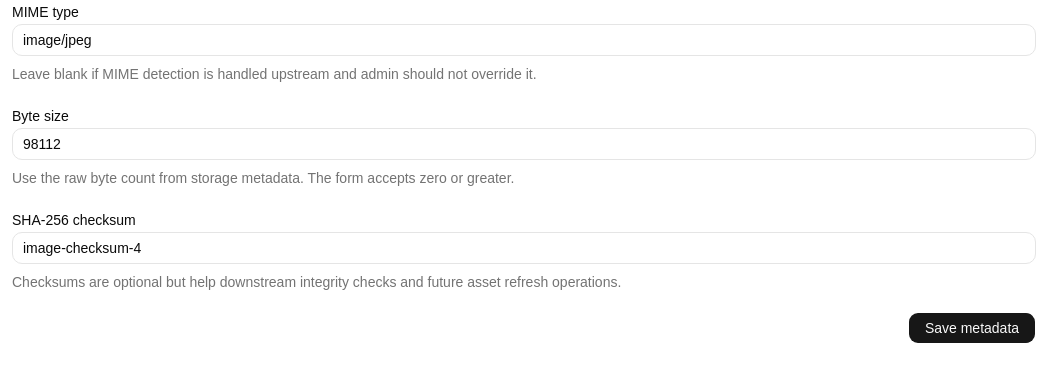
Test: AssetMetadataForm › maps server validation problems back onto the form
The image size is (1048, 388).
Step 1. Type "broken" into the field labelled "MIME type" → (524, 40), box [12,24,1036,56]
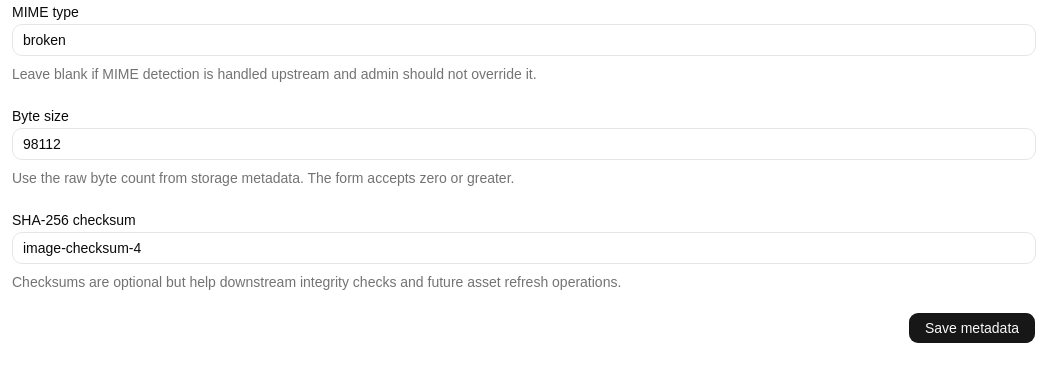
Step 2. Click the button "Save metadata" → (972, 328), box [908,312,1036,344]
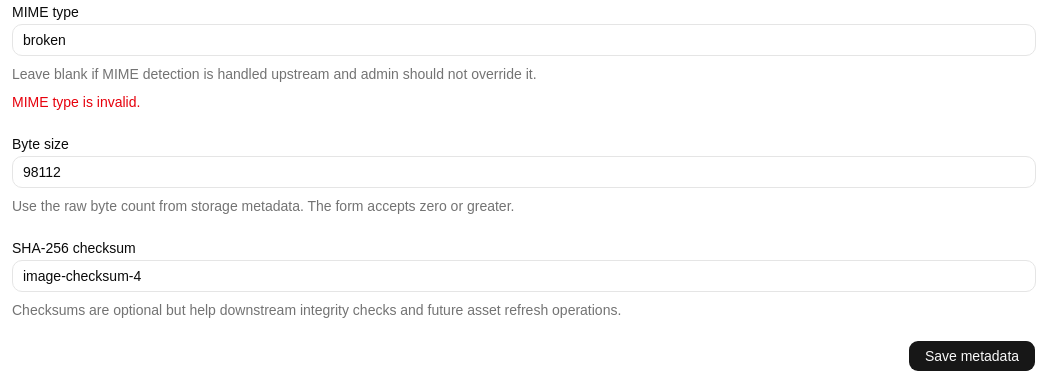
Check: the text "MIME type is invalid." is shown, box [12,94,140,110]
